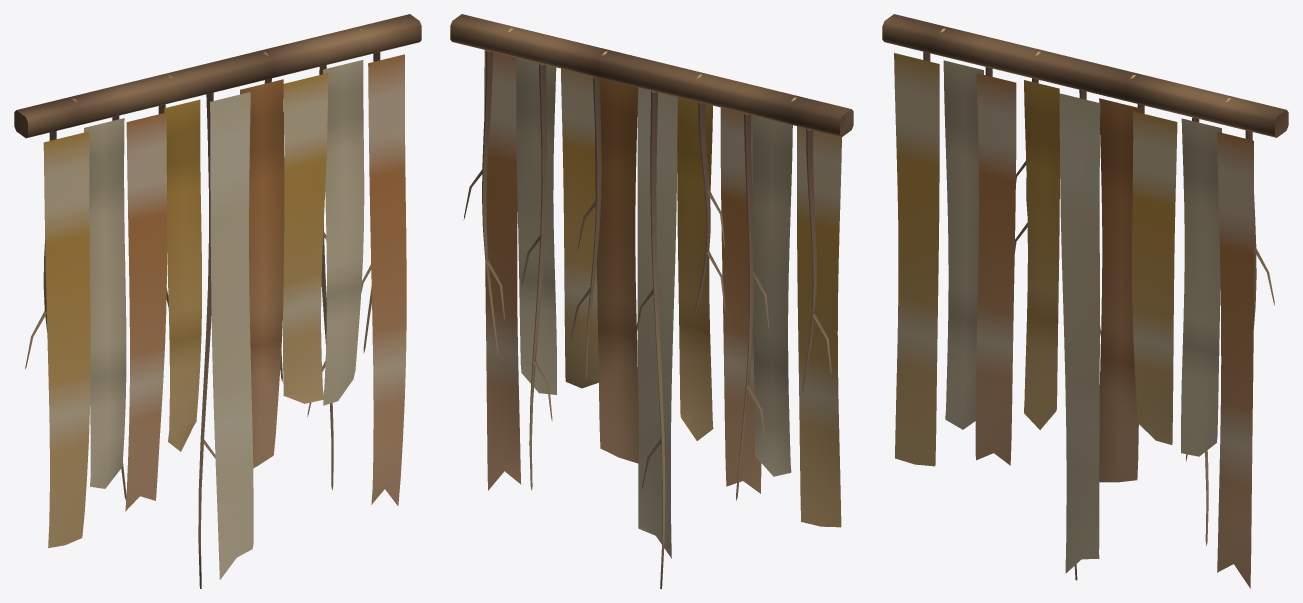
The model's file is curtain_desert.glb.
The picture shows the model from 3 angles, left to right: view 1: azimuth 30°, elevation 25°; view 2: azimuth 150°, elevation 25°; view 3: azimuth 330°, elevation 25°; orthographic projection.
Visible parts, largest first — view 1: curtain_desert; view 2: curtain_desert; view 3: curtain_desert.
Part boxes in pixels (x1,y1,x2,y2): curtain_desert: (14, 14, 421, 588); curtain_desert: (450, 14, 853, 588); curtain_desert: (882, 14, 1288, 588).
Bounding box in the file's own units: 3.3 × 4.2 × 0.2646.
